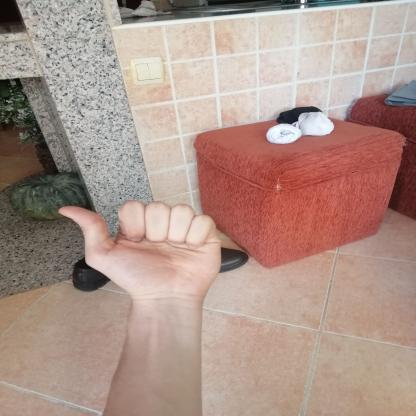DAD: (45, 192, 235, 308)
